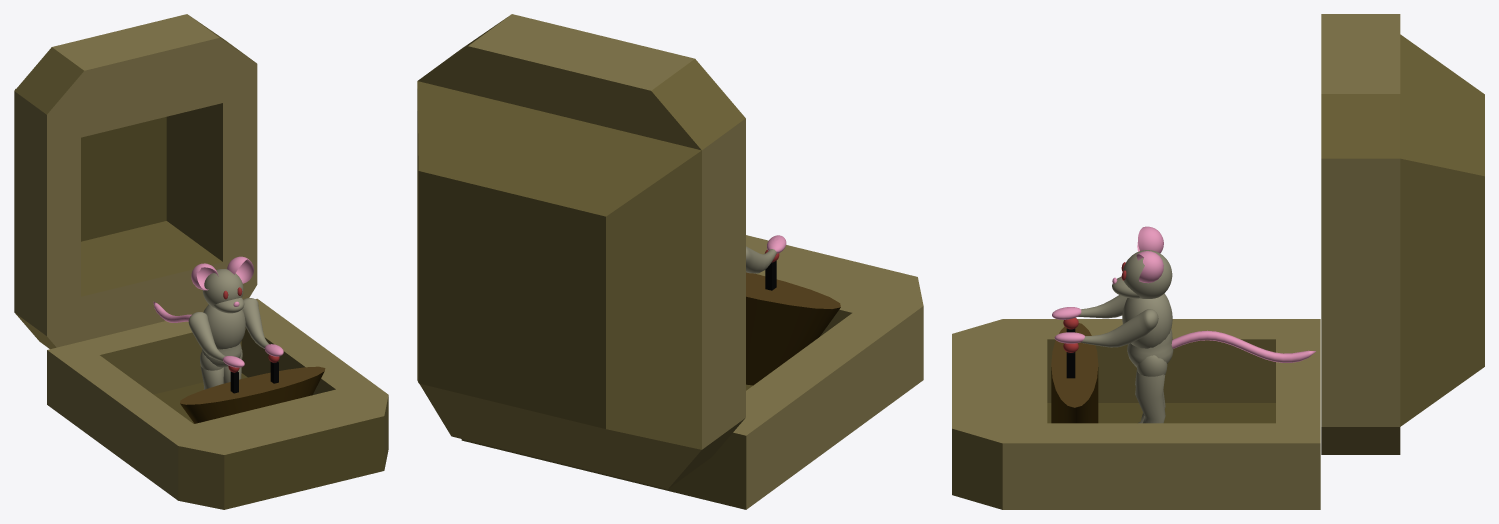
The model's file is Rat_Var2.fbx.
3 renders of one model, left to right at view 1: azimuth 30°, elevation 25°; view 2: azimuth 150°, elevation 25°; view 3: azimuth 270°, elevation 25°, orthographic. The views are drawn at different scales.
Visible parts, largest first — view 1: pasted__Carton2, pasted__Rat6, pasted__ControlBox1; view 2: pasted__Carton2, pasted__ControlBox1, pasted__Rat6; view 3: pasted__Carton2, pasted__Rat6, pasted__ControlBox1.
Part boxes in pixels (x1,y1,x2,y2): pasted__Carton2: (14,14,388,509); pasted__Rat6: (153,256,283,389); pasted__ControlBox1: (180,354,325,423); pasted__Carton2: (417,14,923,509); pasted__ControlBox1: (746,249,840,385); pasted__Rat6: (746,235,786,273); pasted__Carton2: (952,14,1484,509); pasted__Rat6: (1052,226,1315,423); pasted__ControlBox1: (1051,318,1098,423).
Size of the model in its own units: 11.69 by 17.25 by 21.16.
